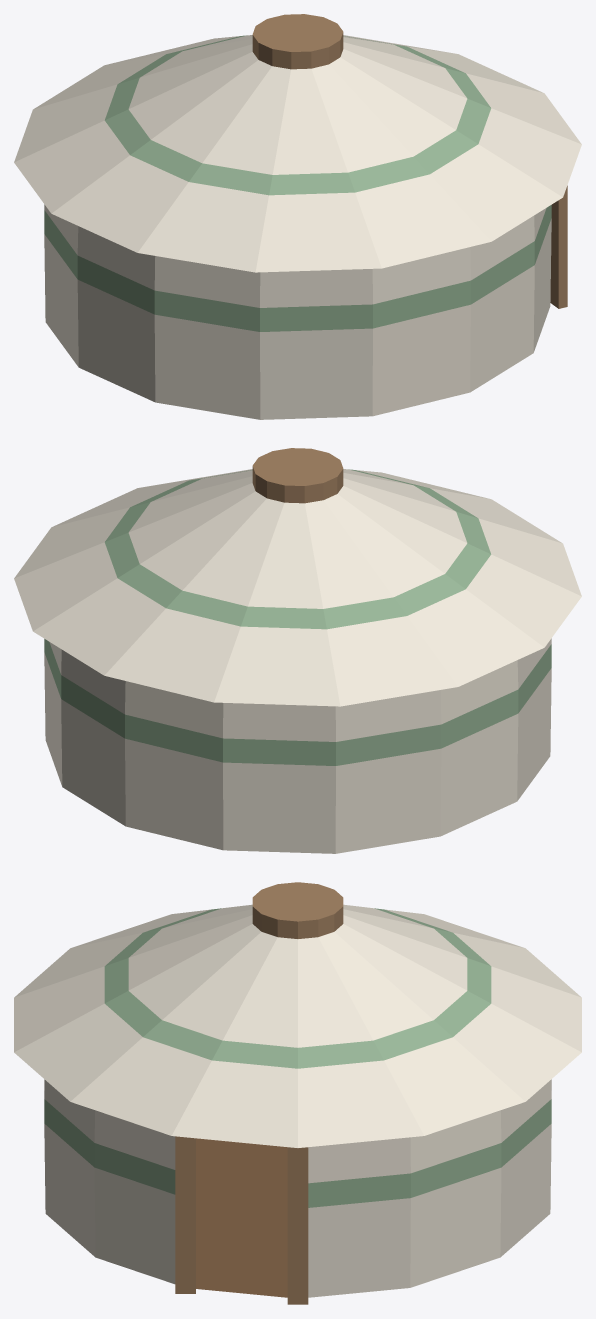
Rendered from yurt_kucuk.glb.
3 renders of one model, top to bottom at view 1: azimuth 30°, elevation 25°; view 2: azimuth 150°, elevation 25°; view 3: azimuth 270°, elevation 25°, orthographic. The views are drawn at different scales.
Parts seen in each view (by area): view 1: yurt_kucuk; view 2: yurt_kucuk; view 3: yurt_kucuk.
Part boxes in pixels (box(x1,y1,x2,y2)): yurt_kucuk: box(14, 14, 581, 419); yurt_kucuk: box(14, 448, 581, 853); yurt_kucuk: box(14, 882, 581, 1304).
Size of the model in its own units: 4.5 by 2.45 by 4.39.
